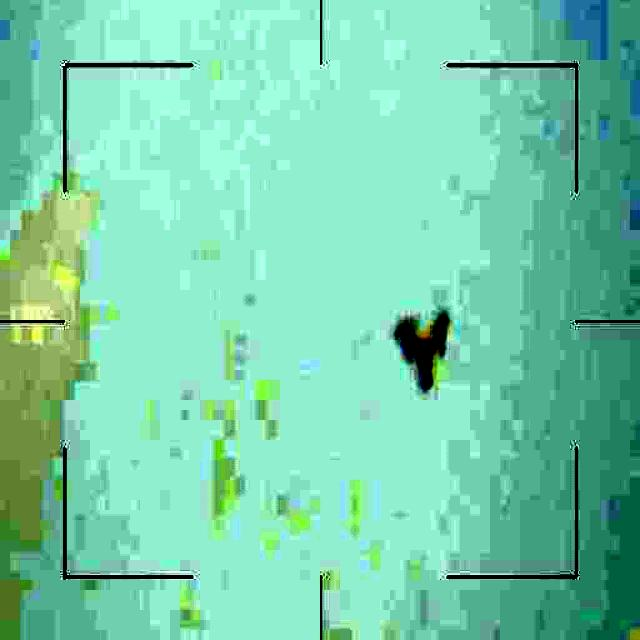bird: (399, 310, 458, 394)
